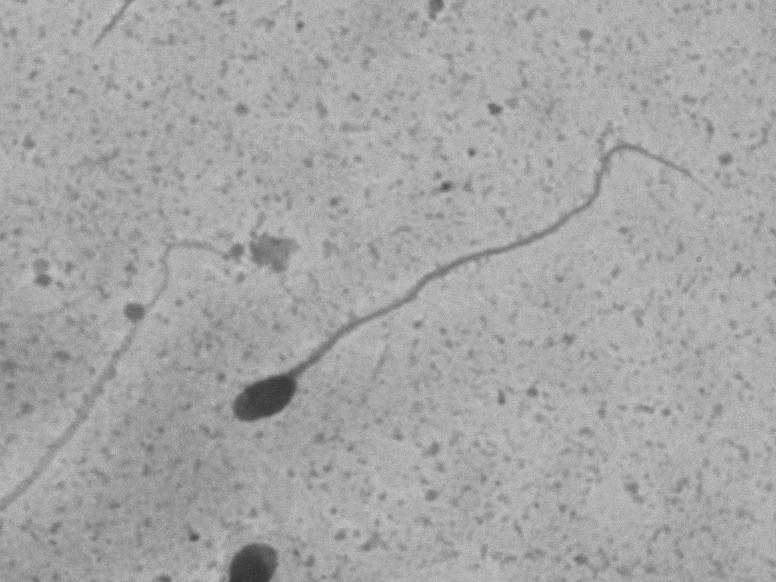Abnormal: (212, 69, 719, 456)
